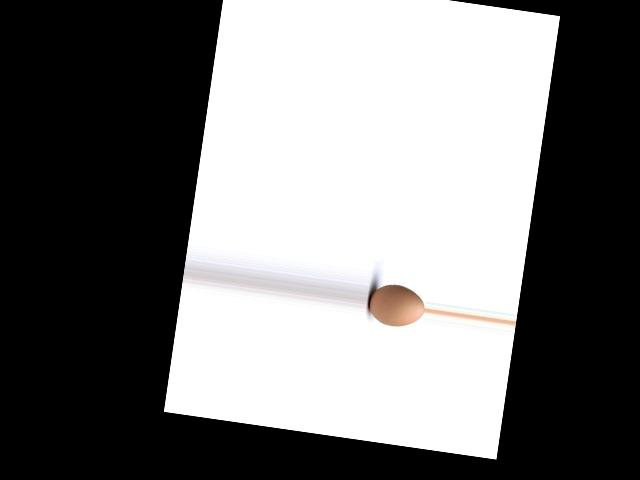egg: (365, 281, 426, 330)
